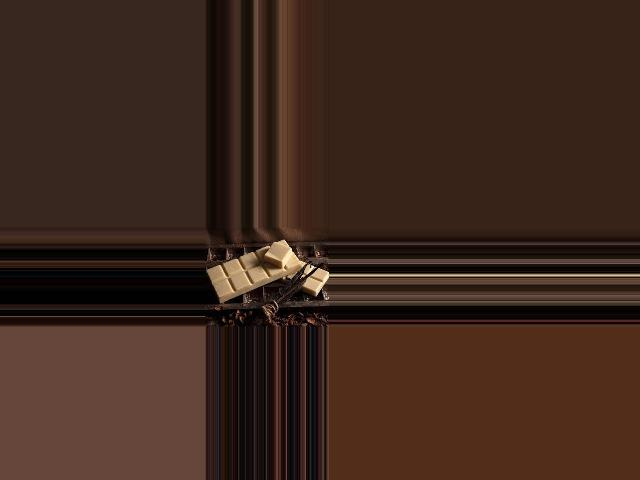chocolate: (207, 240, 304, 301)
